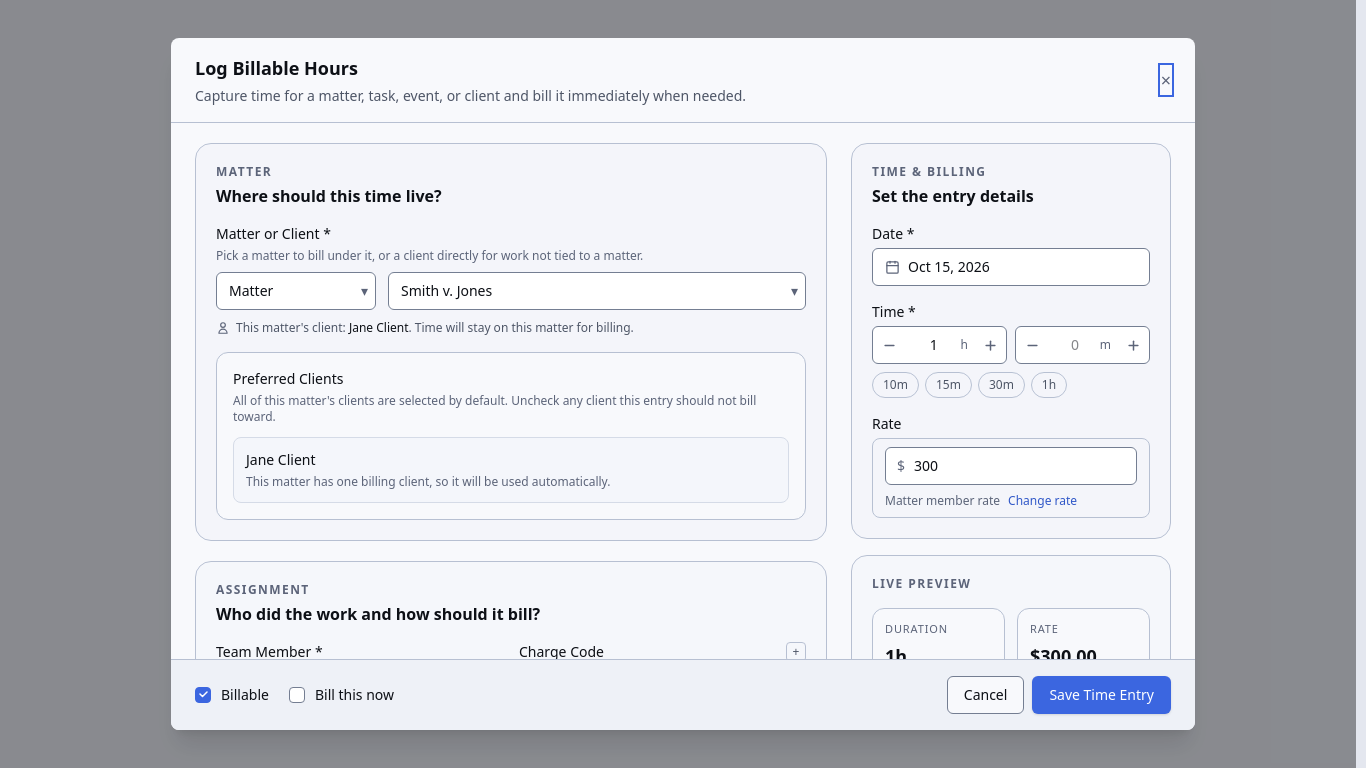
Scenario: creating an entry on a matter › previews hours times rate rounded to the cent
Replace the text in the 3rd number field with "250" at [1011, 466], box [885,447,1137,485]
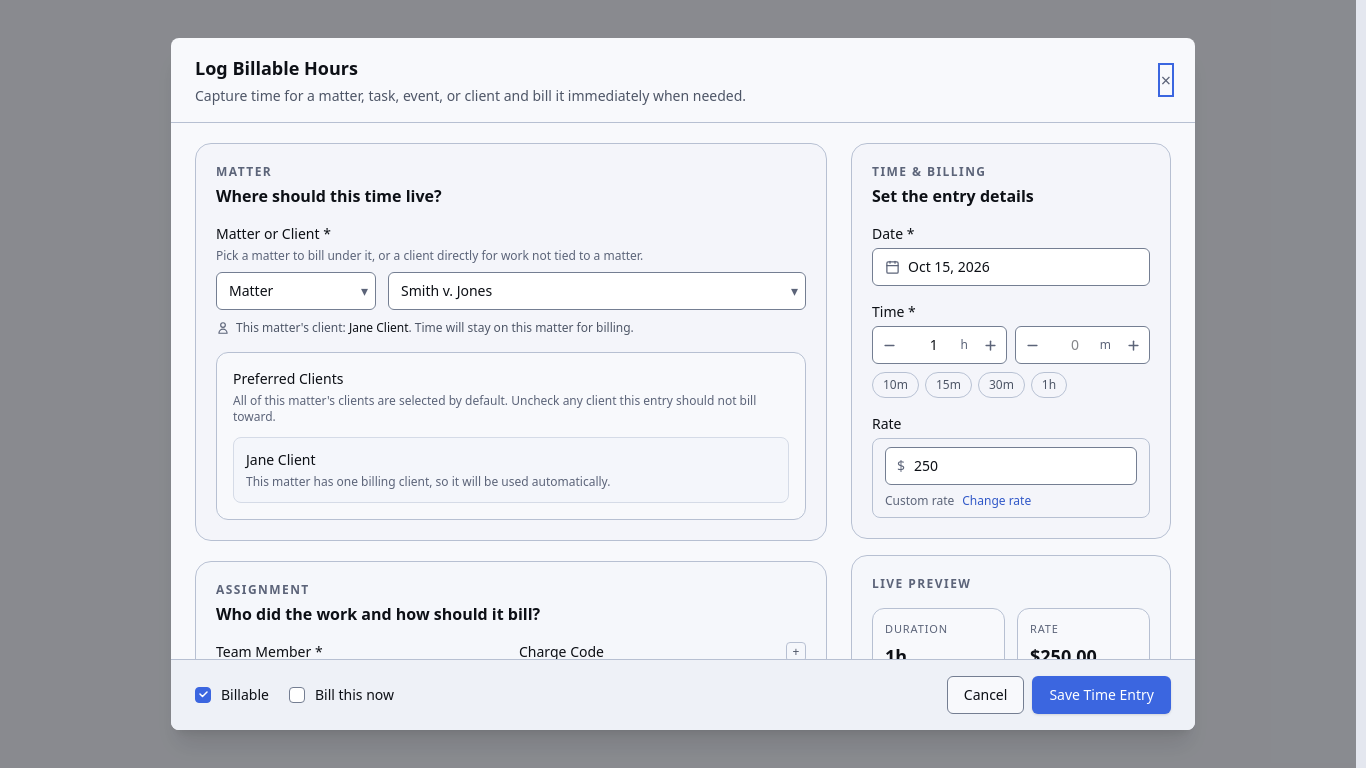
Type "20" into the number field with placeholder "0" at [1075, 345], box [1052,327,1098,363]
(page scrolled)
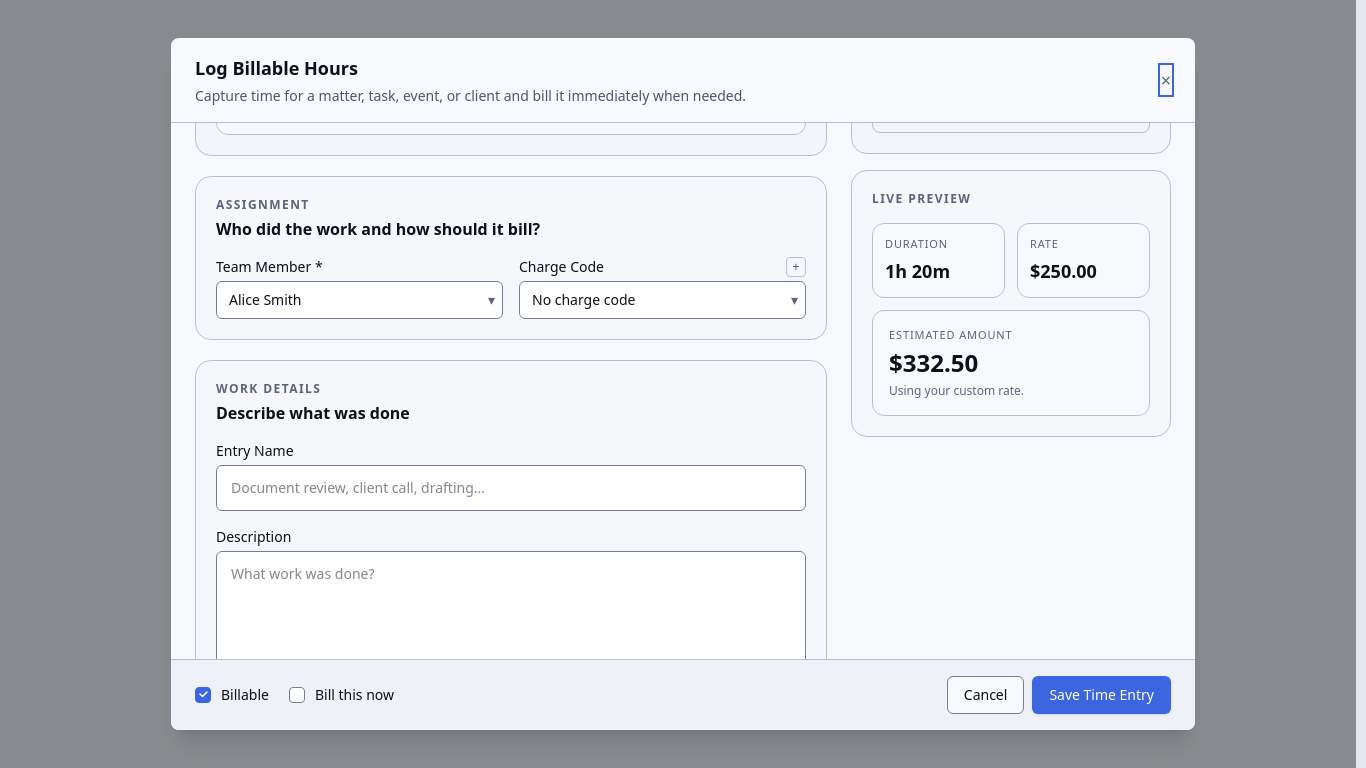
Expected: the text "$332.50" is shown, [889,346,978,379]
Expected: the text "Using your custom rate." is shown, [889,382,1024,399]
